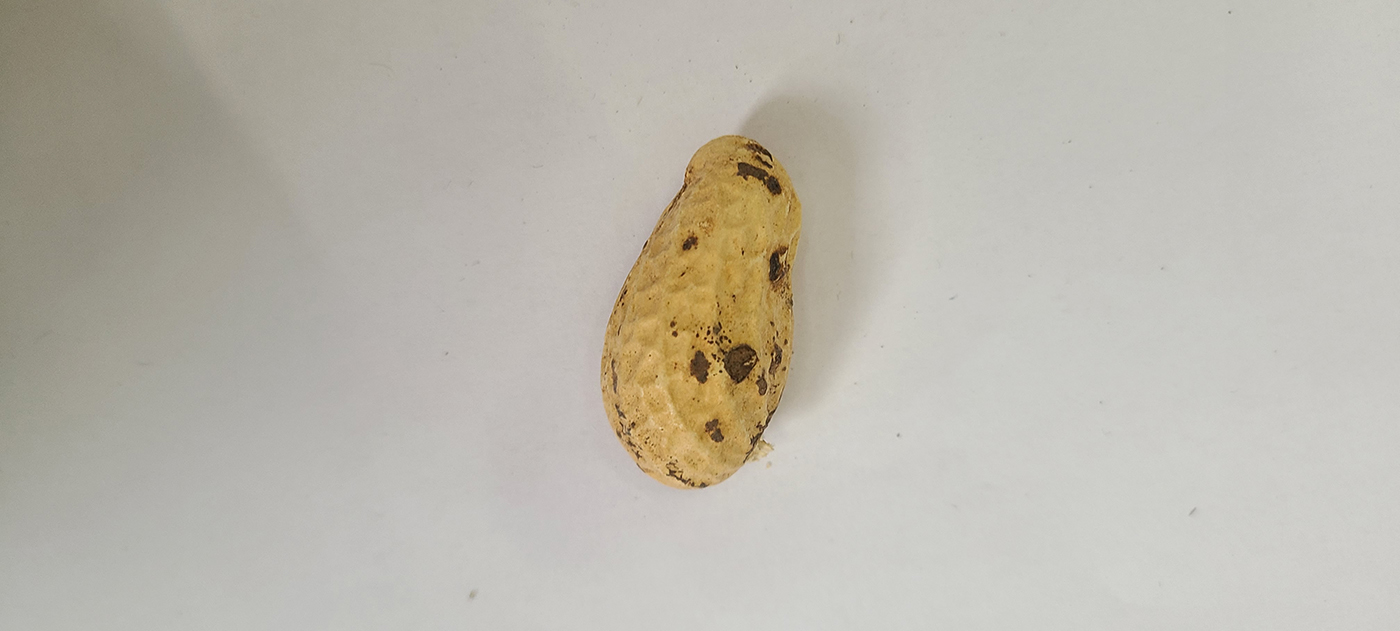h: (601, 131, 804, 495)
